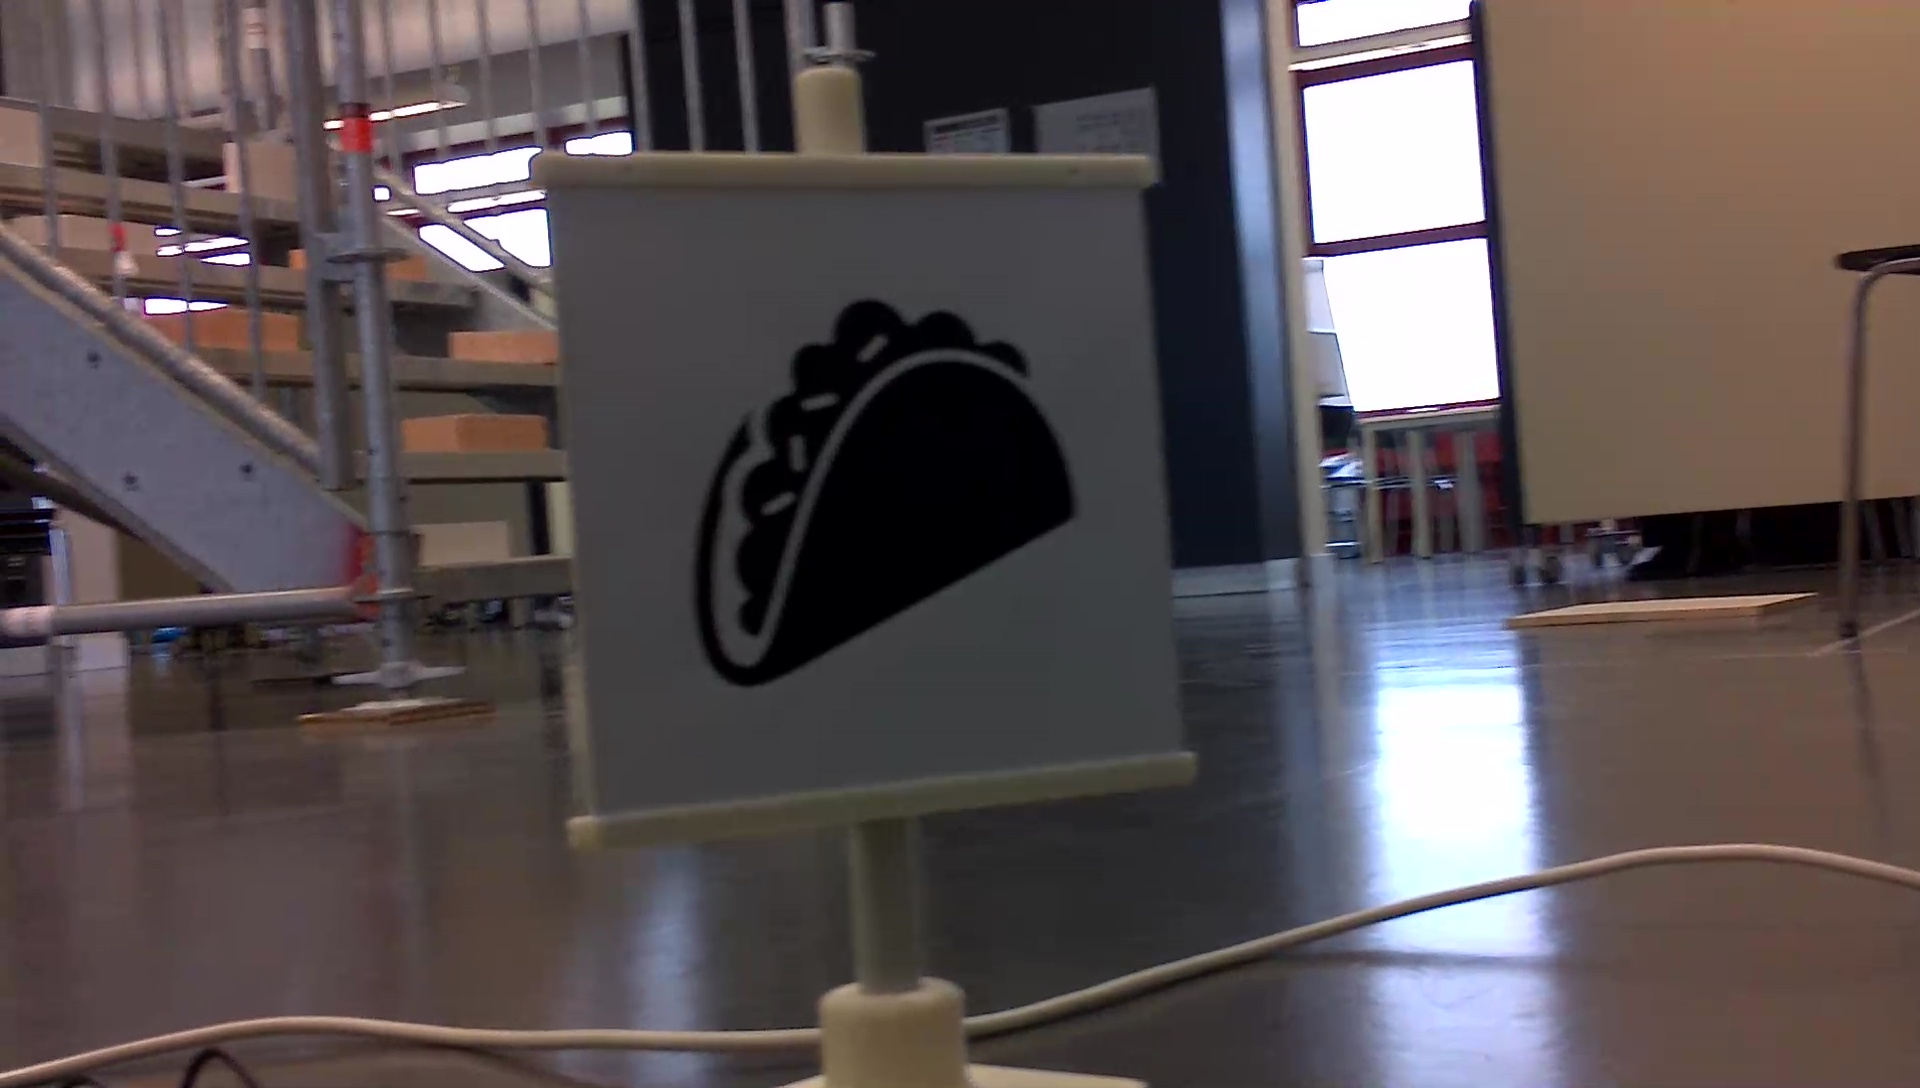brick: (397, 415, 541, 452), (421, 522, 502, 564), (452, 328, 553, 363)
taco: (679, 287, 1092, 700)
